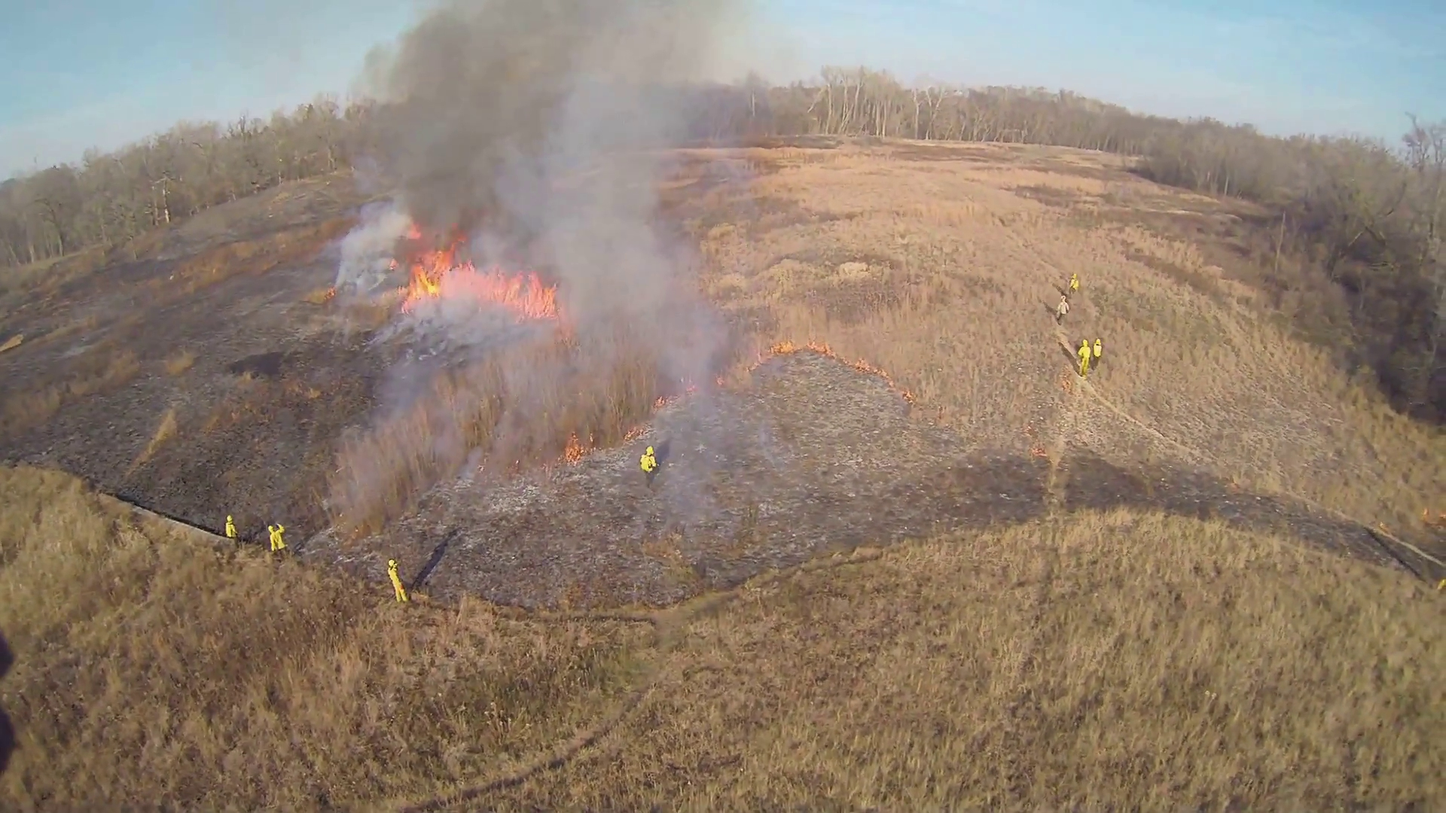forest_fire: (399, 242, 561, 324), (758, 340, 892, 385), (563, 433, 597, 464)
